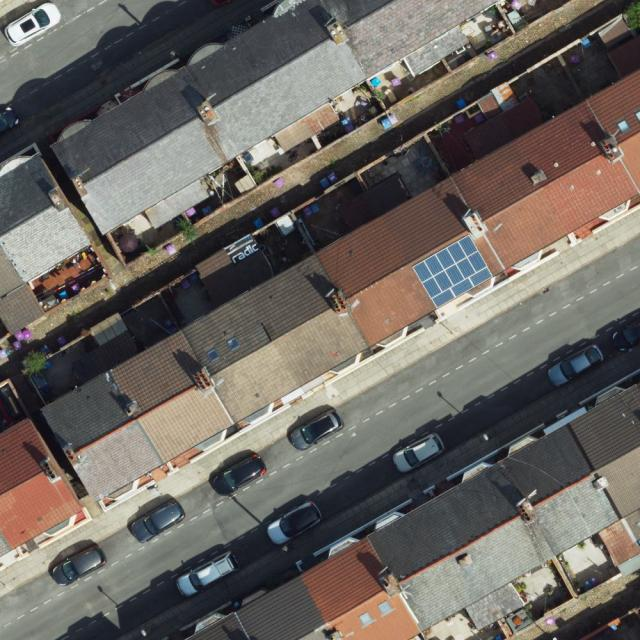roof: (41, 66, 640, 504), (184, 383, 640, 640), (51, 0, 507, 236), (0, 154, 94, 337), (0, 417, 82, 559)
skylight: (377, 598, 397, 618), (204, 347, 223, 365), (358, 609, 377, 626), (227, 334, 243, 352), (615, 119, 632, 135), (635, 109, 640, 123)
solar: (412, 233, 495, 308)
